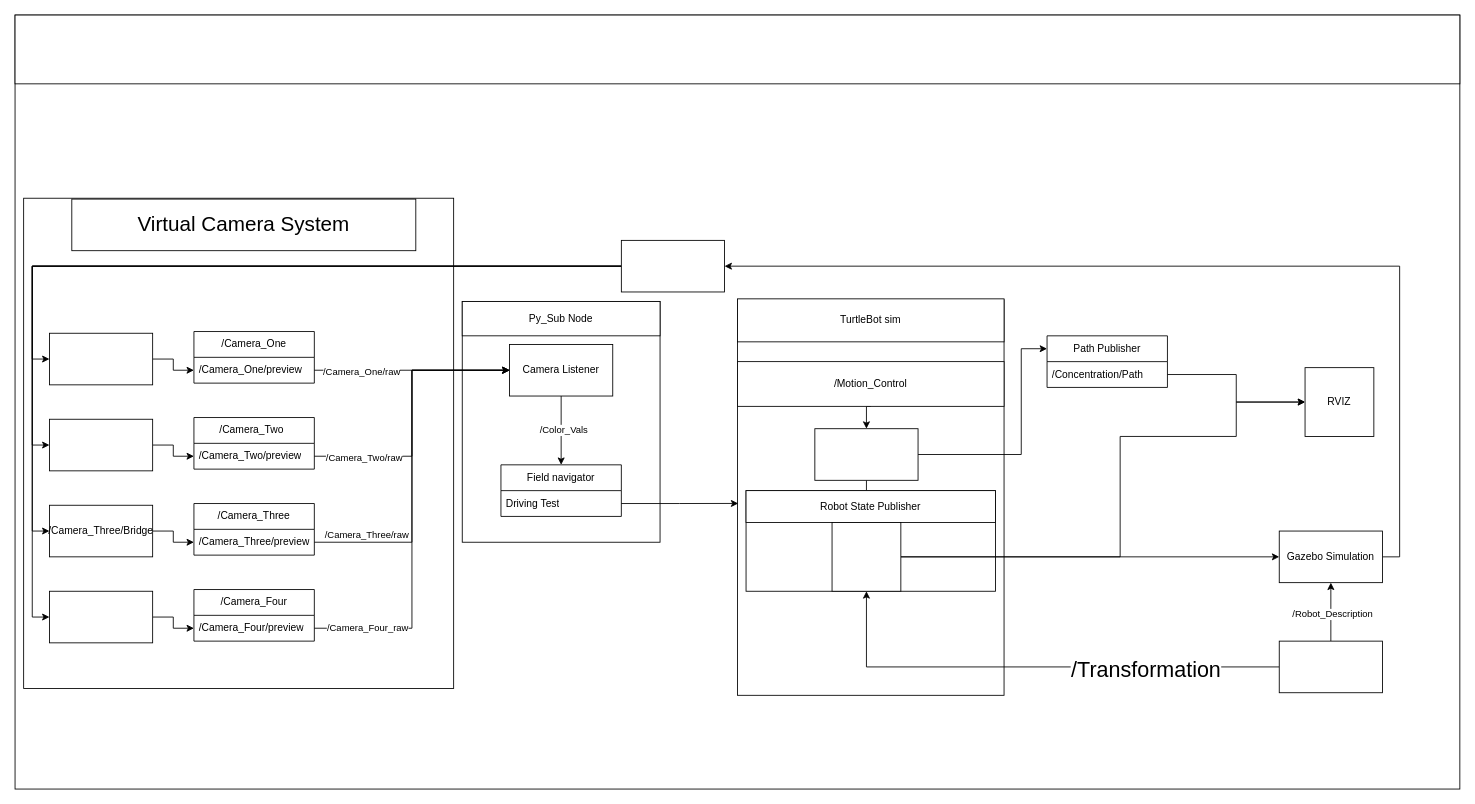
Some shapes in this 1475 by 804 pixel diagram are drawn without their labels. Here are the shapes that lost their labels. From the top down, the centre of each, then its label:
(737,49): Simulation Diagram
(672,266): Simulation Bridge
(101,358): /Camera_One/Bridge
(101,444): /Camera_Two/Bridge
(866,454): /Odom
(866,556): /Robot_State
(101,616): /Camera_Four/Bridge
(1330,666): Robot Description URDF
